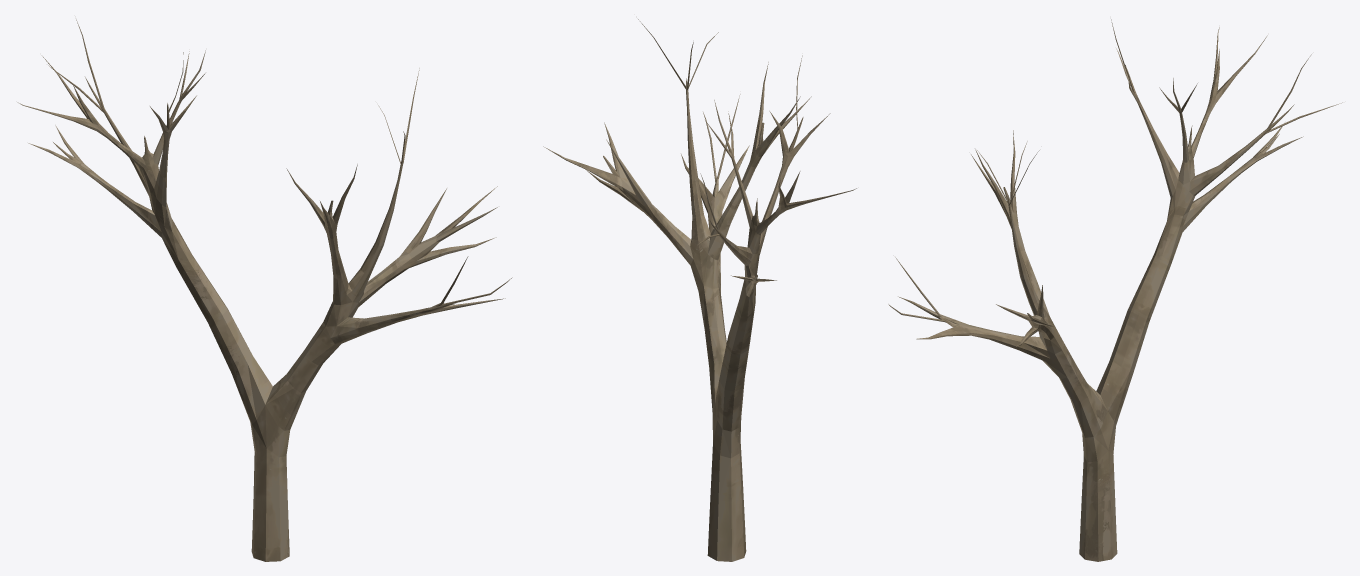
File: tree110b.obj
The picture shows the model from 3 angles, left to right: view 1: azimuth 30°, elevation 25°; view 2: azimuth 150°, elevation 25°; view 3: azimuth 270°, elevation 25°; orthographic projection. The views are drawn at different scales.
Visible parts, largest first — view 1: _0_0; view 2: _0_0; view 3: _0_0.
Boxes of the visible parts, x1,y1,x2,y2 form: _0_0: [17, 19, 512, 561]; _0_0: [543, 19, 856, 561]; _0_0: [888, 19, 1342, 561].
Size of the model in its own units: 144 by 180 by 149.
